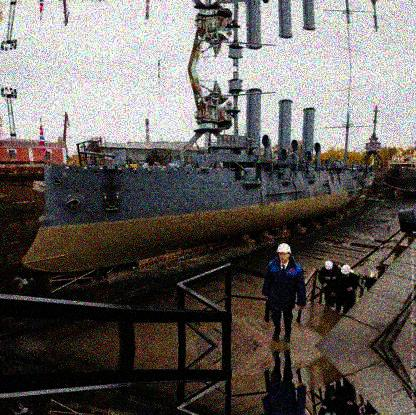helmet: (278, 243, 292, 264)
